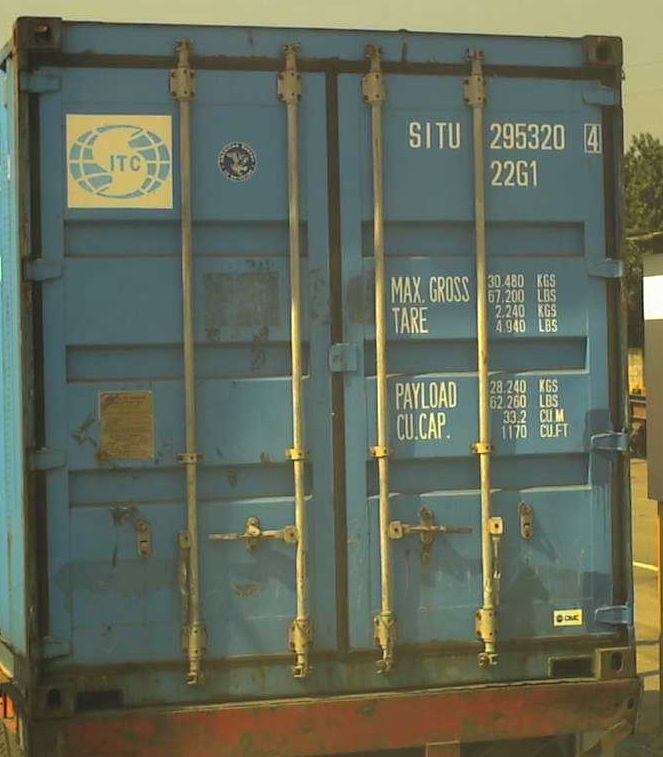container_door: (29, 26, 624, 720)
